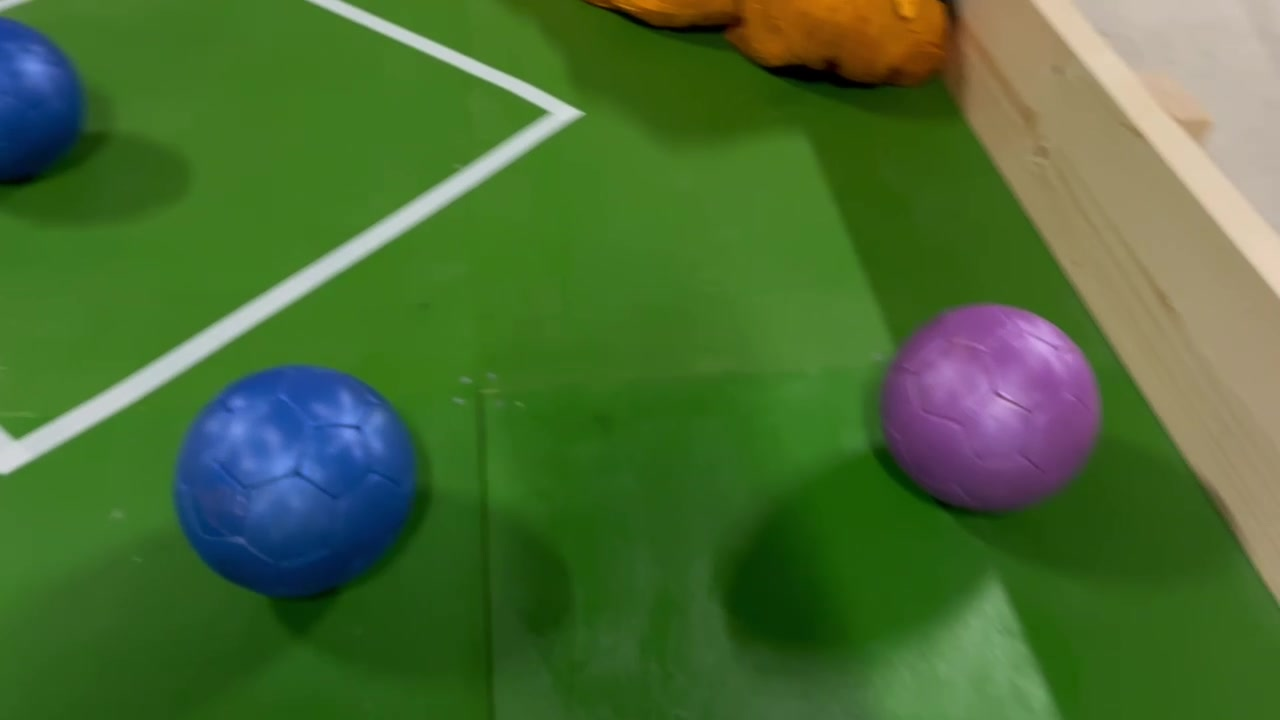blue: (171, 362, 435, 608), (0, 11, 77, 182)
